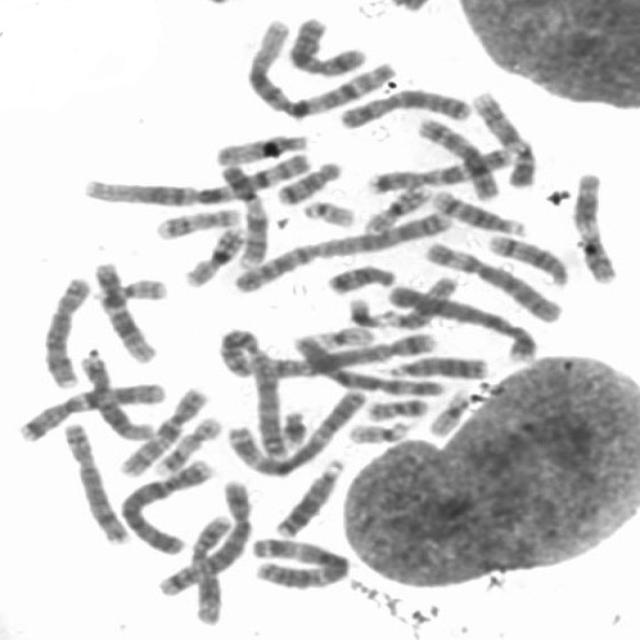A1: (239, 13, 395, 121), (75, 146, 316, 209)
A2: (230, 204, 458, 294), (212, 320, 292, 466)
A3: (215, 380, 370, 478), (247, 530, 353, 592)
B4: (379, 276, 540, 364), (112, 454, 216, 556)
B5: (152, 473, 257, 599), (228, 325, 440, 381)
C10: (113, 382, 212, 479), (410, 111, 502, 202)
C11: (566, 166, 620, 286), (184, 512, 231, 626)
C12: (74, 349, 160, 442), (88, 255, 160, 365)
C6: (416, 233, 567, 325), (288, 330, 450, 398)
C7: (12, 376, 168, 444), (360, 140, 515, 195)
C8: (55, 418, 131, 546), (35, 270, 94, 390)
C9: (465, 85, 540, 189), (213, 158, 271, 270)
D13: (269, 453, 348, 539), (379, 350, 494, 380)
D14: (424, 182, 528, 236), (483, 228, 573, 288)
D15: (380, 272, 460, 330), (208, 128, 312, 168)
E16: (176, 220, 248, 290), (358, 178, 434, 234)
E17: (149, 411, 224, 476), (149, 201, 246, 242)
E18: (271, 154, 346, 206), (321, 257, 401, 296)
F19: (423, 384, 473, 438), (302, 320, 379, 350)
F20: (90, 273, 170, 306), (361, 391, 432, 422)
G21: (344, 292, 394, 329), (275, 404, 310, 448)
G22: (297, 194, 358, 229), (343, 415, 414, 444)
X: (334, 82, 474, 130), (282, 12, 372, 80)
